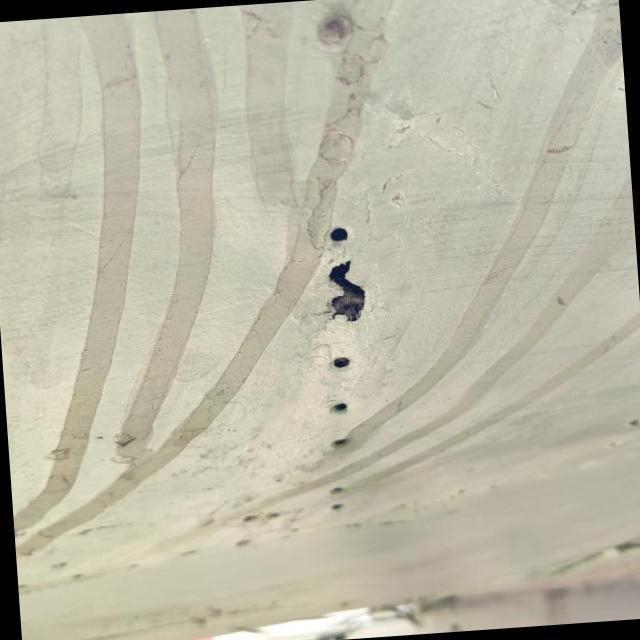Rupture: (290, 242, 392, 352)
